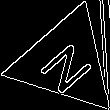N_NE: (32, 30, 98, 93)
